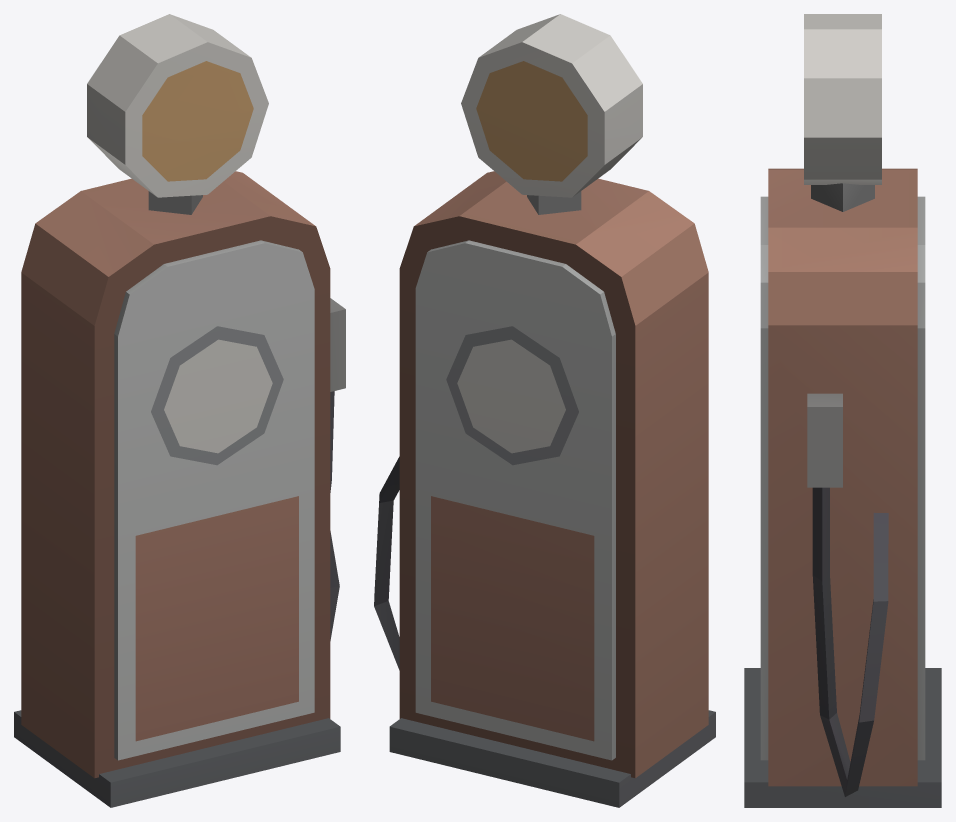
The model's file is pump.lod1.glb.
The picture shows the model from 3 angles, left to right: view 1: azimuth 30°, elevation 25°; view 2: azimuth 150°, elevation 25°; view 3: azimuth 270°, elevation 25°; orthographic projection.
Bounding box in the file's own units: 0.959 × 2.26 × 0.554.
